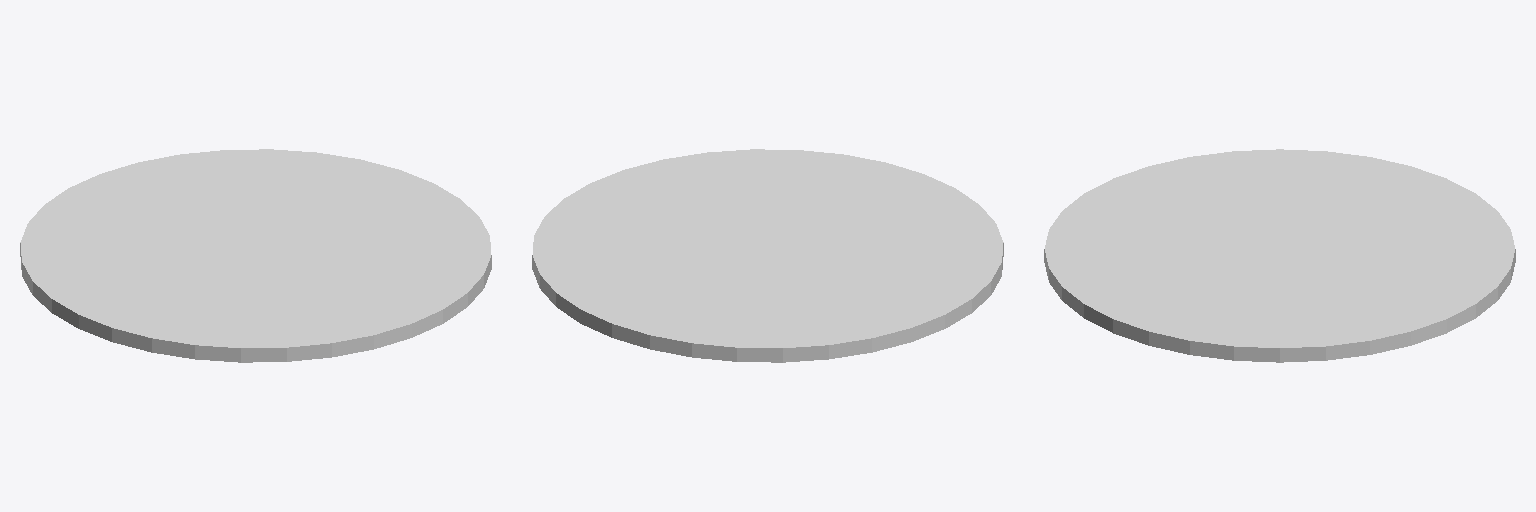
The robot description file, URDF, robot "round_table":
<?xml version="1.0"?>
<robot name="round_table">
  <link name="table_top">
    <inertial>
      <origin xyz="0 0 0.025" rpy="0 0 0" />
      <mass value="18.0" />
      <inertia ixx="0.01703125" ixy="0" ixz="0" iyy="0.01703125" iyz="0"
          izz="0.0003125" />
    </inertial>
    <visual>
      <origin xyz="0 0 -0.01" rpy="0 0 0" />
      <geometry>
        <cylinder length="0.02" radius="0.30" />
      </geometry>
      <material name="White">
        <color rgba="0.9 0.9 0.9 1.0"/>
      </material>
    </visual>
    <collision>
      <origin xyz="0 0 -0.01" rpy="0 0 0" />
      <geometry>
        <cylinder length="0.02" radius="0.30" />
      </geometry>
    </collision>
   </link>
</robot>

--- Facts derived from the render (not from the file) ---
The picture shows the robot from 3 angles, left to right: view 1: azimuth 30°, elevation 25°; view 2: azimuth 150°, elevation 25°; view 3: azimuth 270°, elevation 25°; orthographic projection.
Robot: round_table — 1 links, 0 joints (none); root link table_top; default pose: every joint at zero.
Links seen in each view (by area): view 1: table_top; view 2: table_top; view 3: table_top.
Boxes of the visible links, x1,y1,x2,y2 form: table_top: [20, 149, 491, 362]; table_top: [532, 149, 1003, 362]; table_top: [1044, 149, 1515, 362].
Bounding box of the posed robot: 0.6 × 0.6 × 0.02 m (x, y, z).
Geometry: primitives only (box / cylinder / sphere), no mesh files.